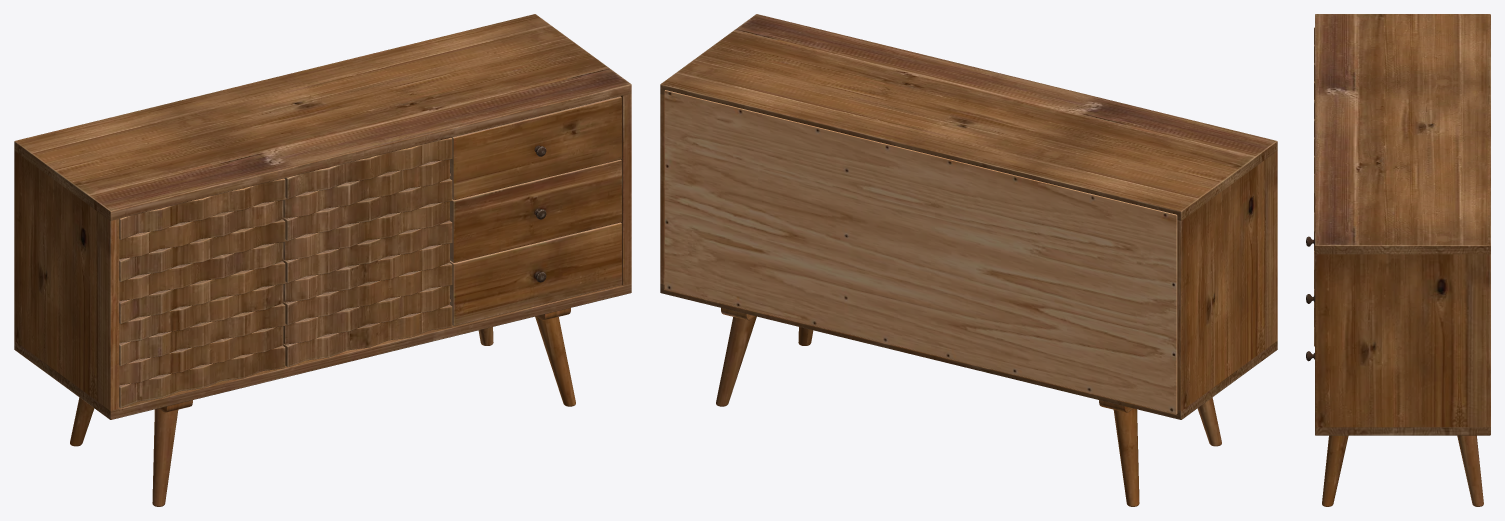
Rendered from abo-B075Z8628K.glb.
3 renders of one model, left to right at view 1: azimuth 30°, elevation 25°; view 2: azimuth 150°, elevation 25°; view 3: azimuth 270°, elevation 25°, orthographic. The views are drawn at different scales.
Size of the model in its own units: 1.4 by 0.8 by 0.472.
Materials: 1 (1 with a texture image).
